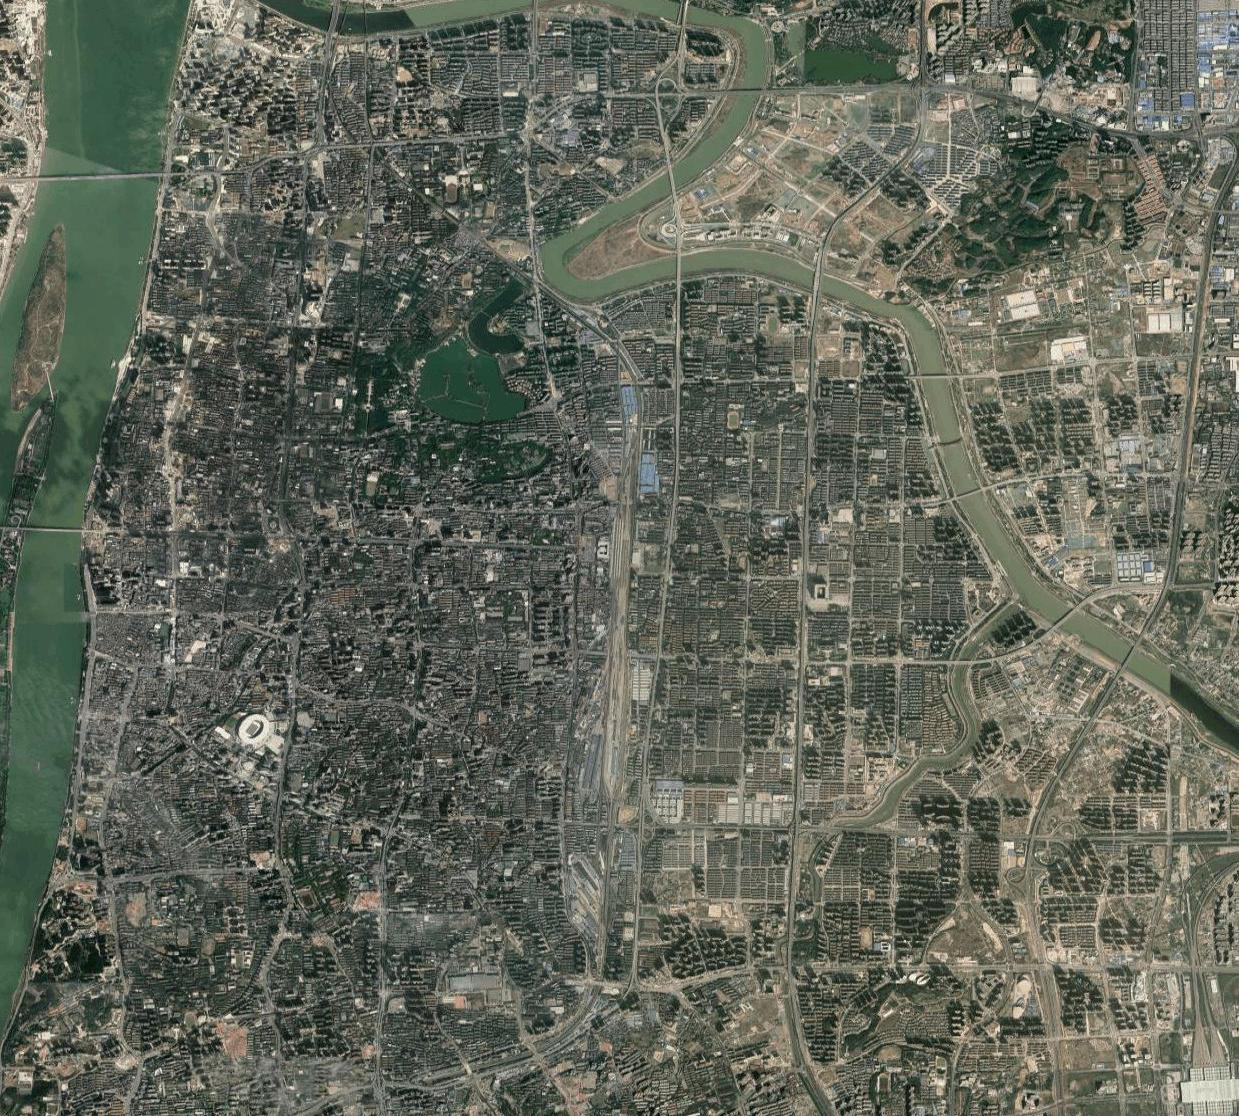bridge: (34, 167, 164, 186), (26, 521, 84, 538), (1052, 606, 1078, 631), (910, 369, 956, 383), (951, 486, 988, 503), (1118, 642, 1140, 670), (726, 86, 771, 98), (662, 163, 678, 195), (809, 267, 823, 297), (674, 253, 683, 280)
train_station: (610, 515, 634, 594)
